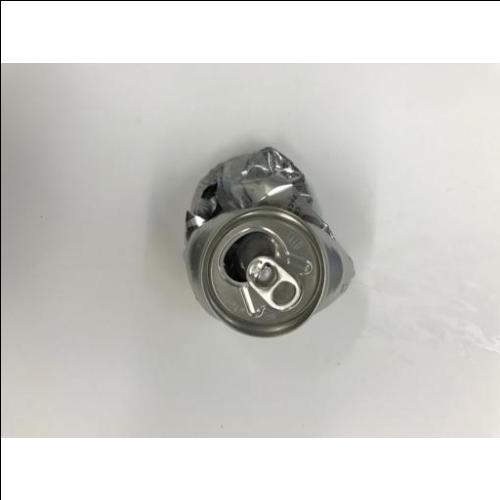metal: (180, 146, 356, 340)
